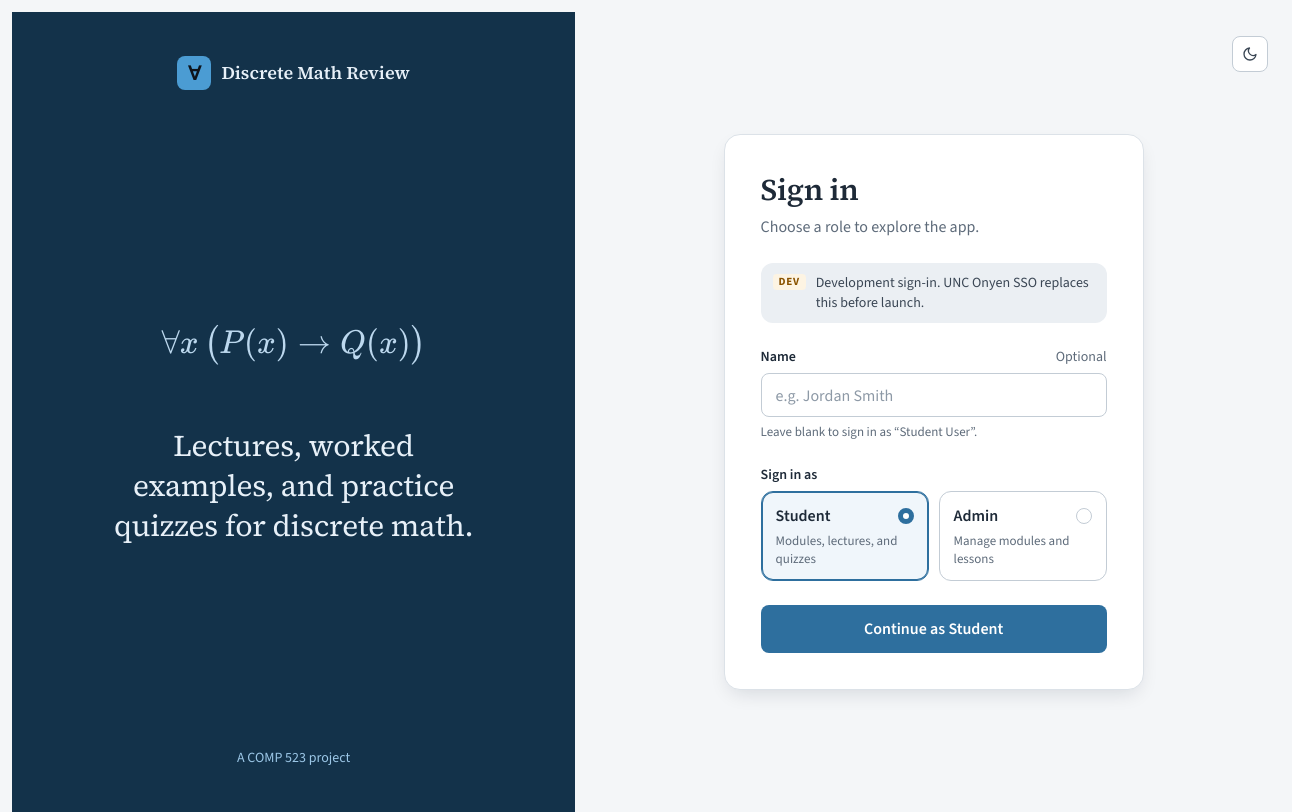
it: Login › signs in a blank-name admin as "Admin User" and goes to /admin
The width and height of the screenshot is (1292, 812).
Click the radio button labelled "Admin Manage modules and lessons" at (1023,536), box top-left (939, 491), bottom-right (1107, 581)
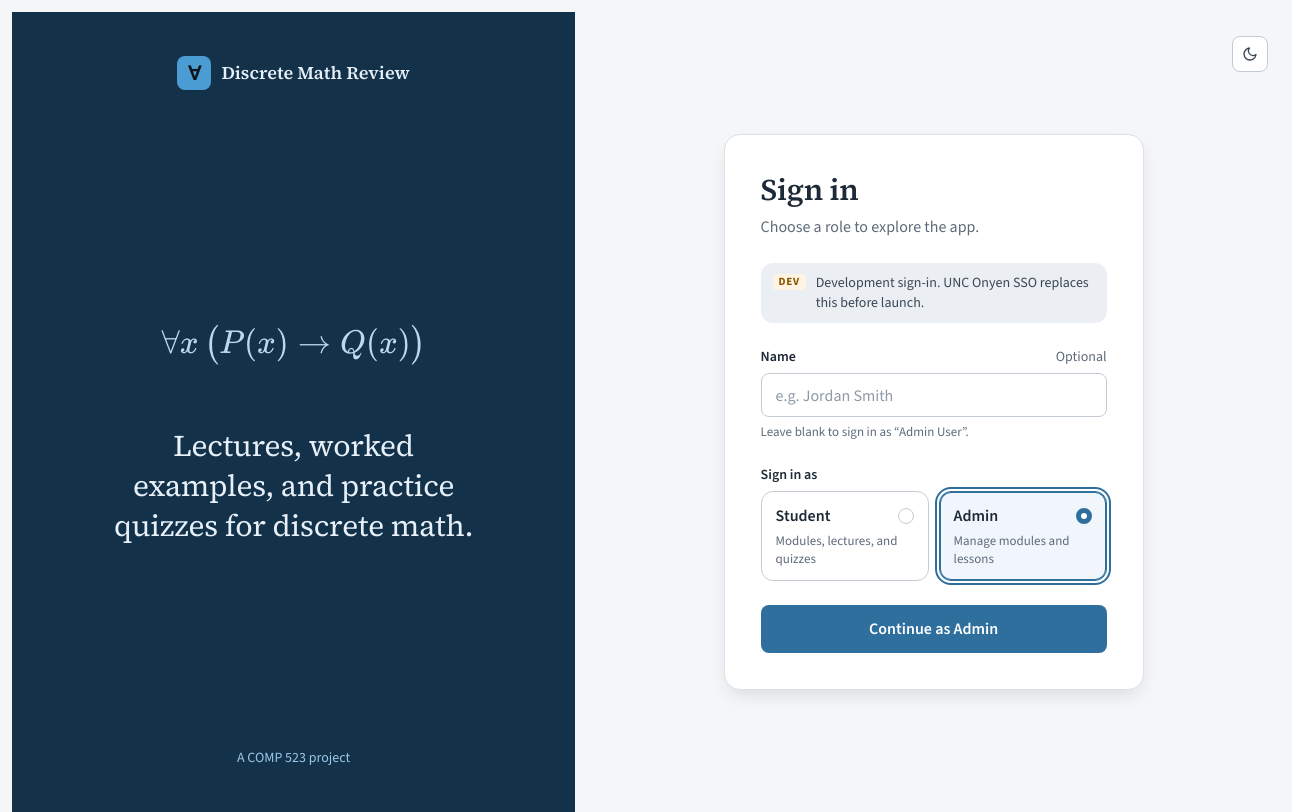
Click the button "Continue as Admin" at (934,629), box top-left (761, 605), bottom-right (1107, 653)
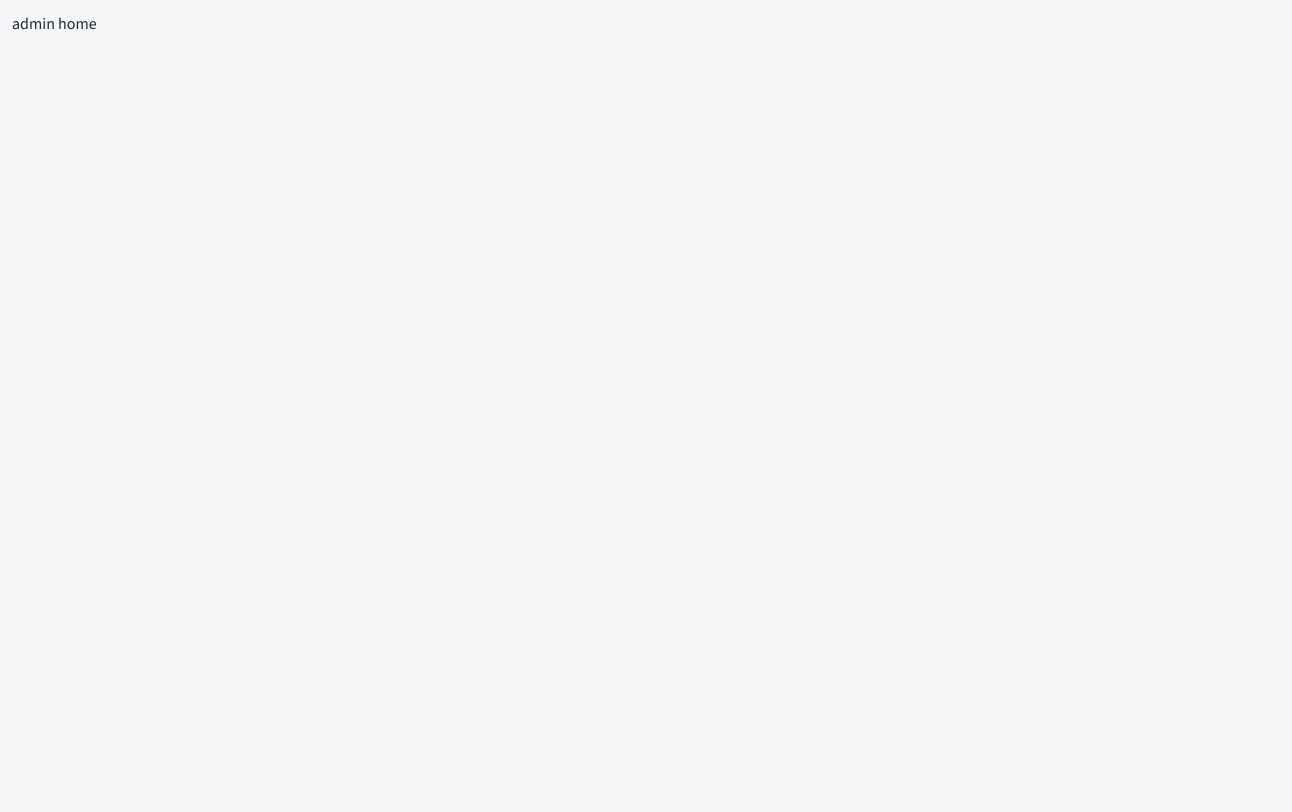
Result: the text "admin home" is shown at top-left (12, 13), bottom-right (97, 34)
